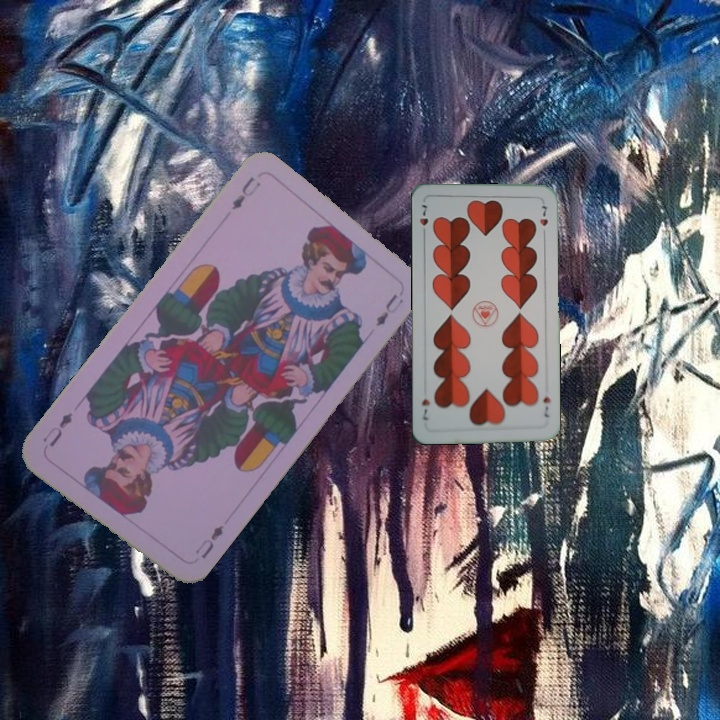EU: (190, 521, 226, 562), (227, 173, 263, 213)
H7: (416, 200, 431, 239), (539, 393, 553, 419)
